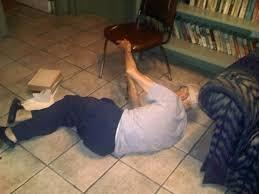FallenBody: (1, 38, 200, 166)
